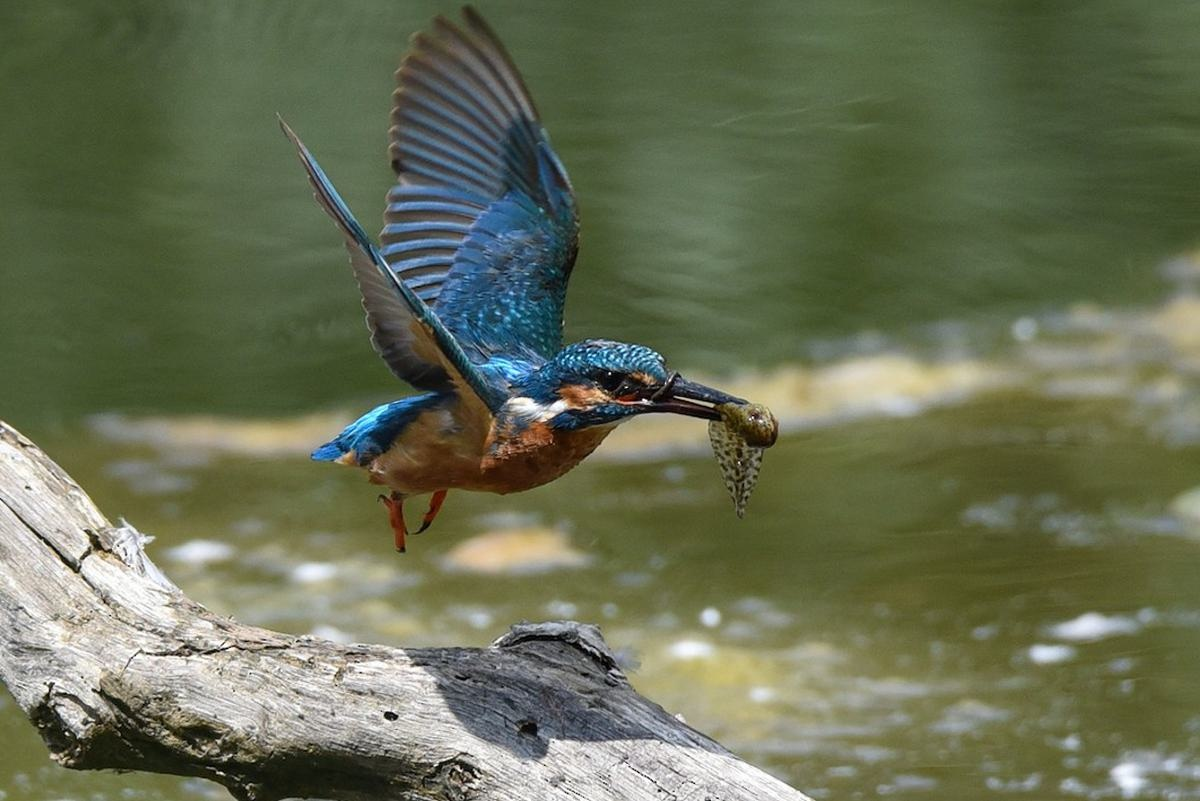kingfisher: (272, 10, 723, 546)
